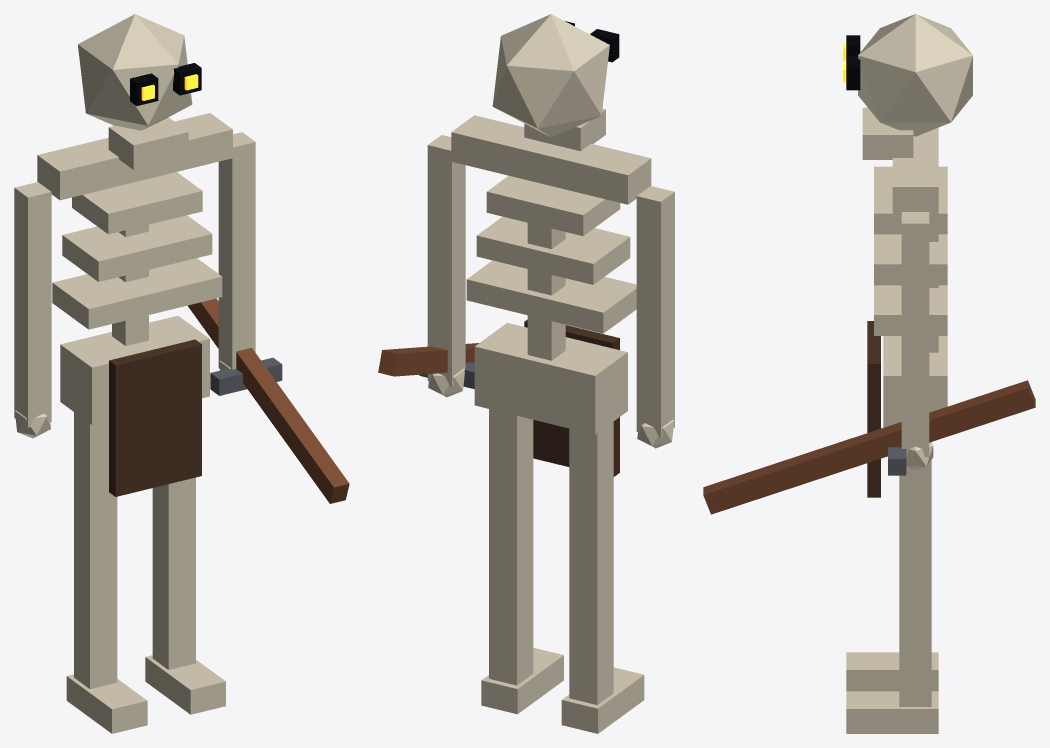
File: skeleton.glb
The picture shows the model from 3 angles, left to right: view 1: azimuth 30°, elevation 25°; view 2: azimuth 150°, elevation 25°; view 3: azimuth 270°, elevation 25°; orthographic projection. The views are drawn at different scales.
Visible parts, largest first — view 1: loin, legL_m, skull, armL_m, legR_m, armR_m, rib0, shoulders, pelvis, rib1, blade, rib2 (+8 smaller); view 2: legL_m, pelvis, legR_m, skull, shoulders, armL_m, armR_m, rib0, rib1, rib2, spine, legL_f (+7 smaller); view 3: skull, blade, legR_m, armR_m, legR_f, shoulders, pelvis, legL_f, rib1, rib0, rib2, loin (+2 smaller).
Part boxes in pixels (x1,y1,x2,y2): loin: (109, 339, 201, 496); legL_m: (74, 412, 117, 688); skull: (78, 14, 192, 130); armL_m: (14, 182, 51, 427); legR_m: (152, 477, 195, 669); armR_m: (218, 132, 255, 369); rib0: (52, 258, 222, 329); shoulders: (37, 113, 232, 200); pelvis: (60, 315, 209, 424); rib1: (62, 215, 212, 281); blade: (188, 298, 349, 503); rib2: (72, 172, 202, 234); legL_m: (569, 422, 613, 704); pelvis: (474, 323, 627, 434); legR_m: (489, 409, 533, 685); skull: (492, 14, 609, 137); shoulders: (451, 115, 651, 204); armL_m: (636, 186, 674, 437); armR_m: (427, 135, 465, 386); rib0: (466, 260, 636, 333); rib1: (476, 216, 630, 284); rib2: (486, 175, 620, 235); spine: (527, 223, 565, 360); legL_f: (561, 667, 644, 733); skull: (858, 14, 972, 136); blade: (703, 380, 1035, 514); legR_m: (899, 442, 931, 706); armR_m: (901, 212, 929, 457); legR_f: (846, 691, 938, 733); shoulders: (892, 127, 938, 216); pelvis: (883, 336, 947, 427); legL_f: (846, 652, 938, 691); rib1: (874, 234, 947, 285); rib0: (874, 285, 947, 335); rib2: (874, 166, 947, 234); loin: (867, 321, 880, 497).
Bounding box in the file's own units: 0.6402 × 1.66 × 0.7219.
